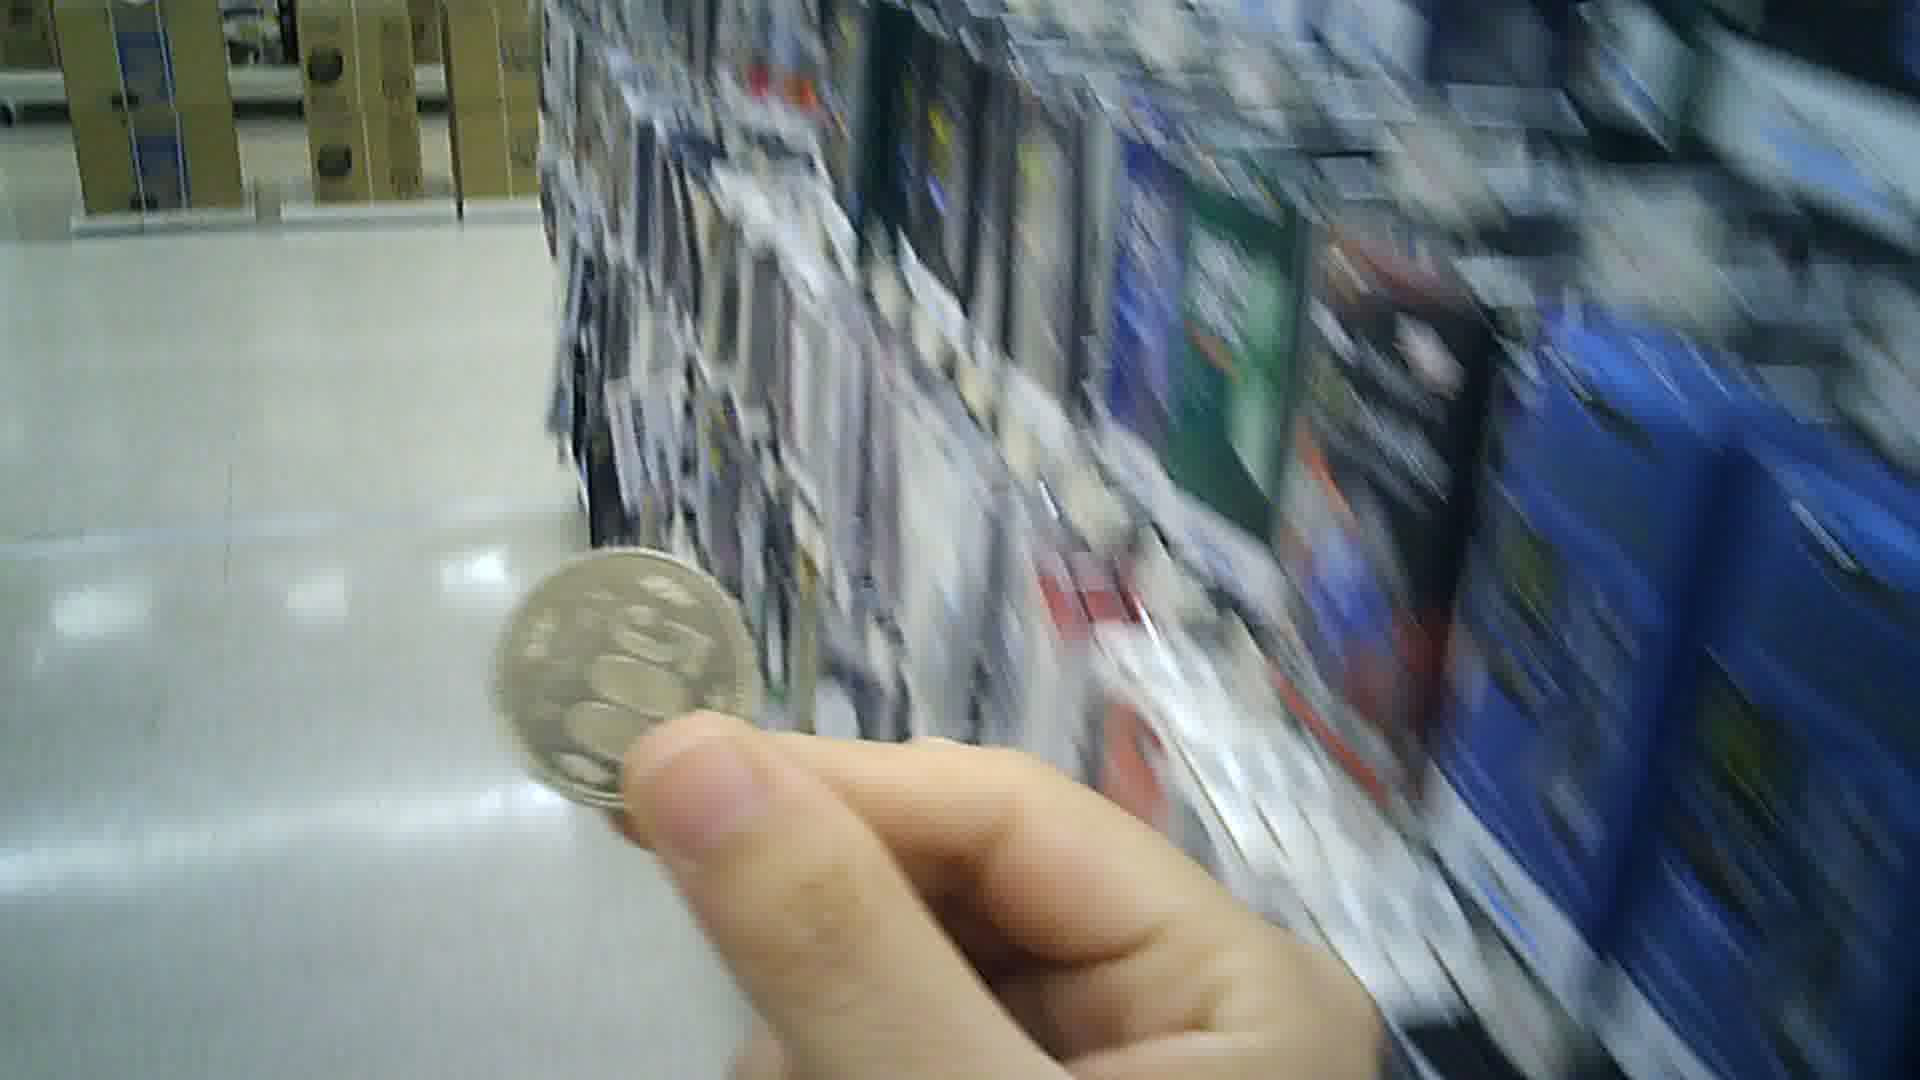500 Yen: (487, 551, 760, 806)
